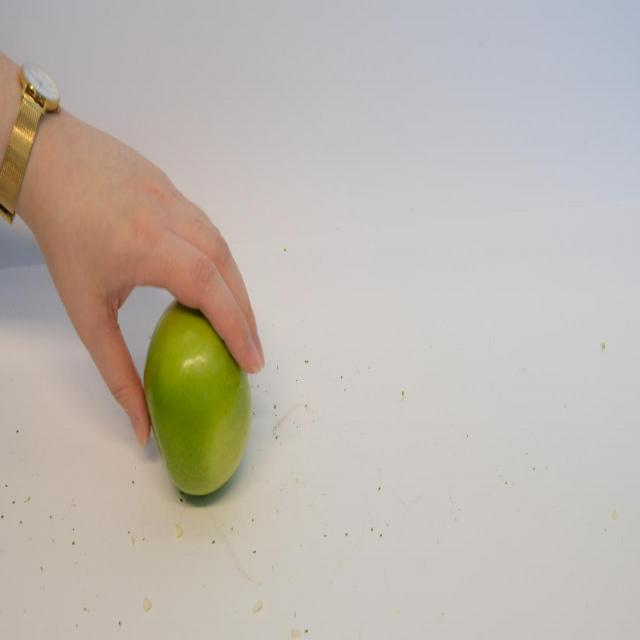apple: (145, 286, 258, 512)
